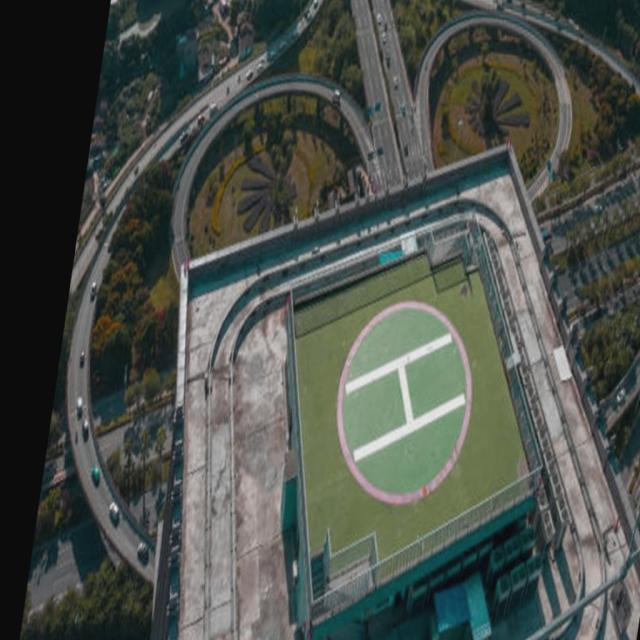helipad: (329, 293, 477, 508)
